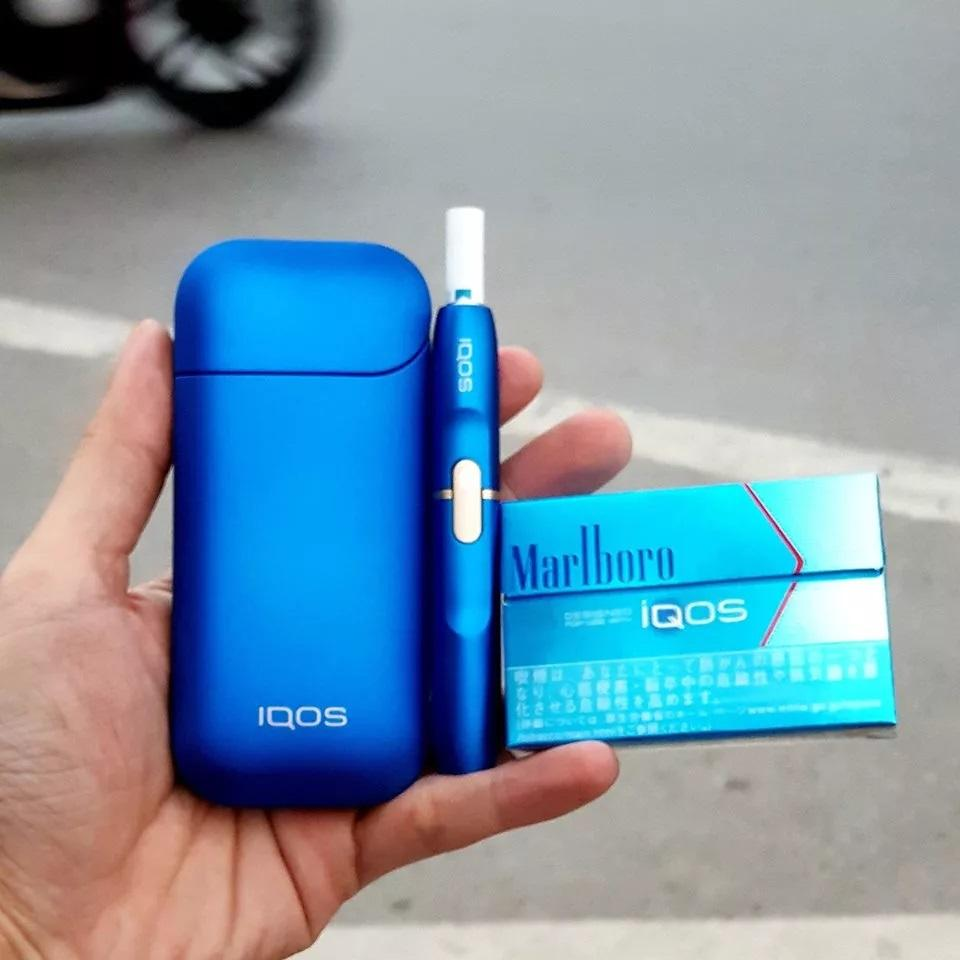iqos: (430, 208, 498, 773), (462, 270, 468, 277)
